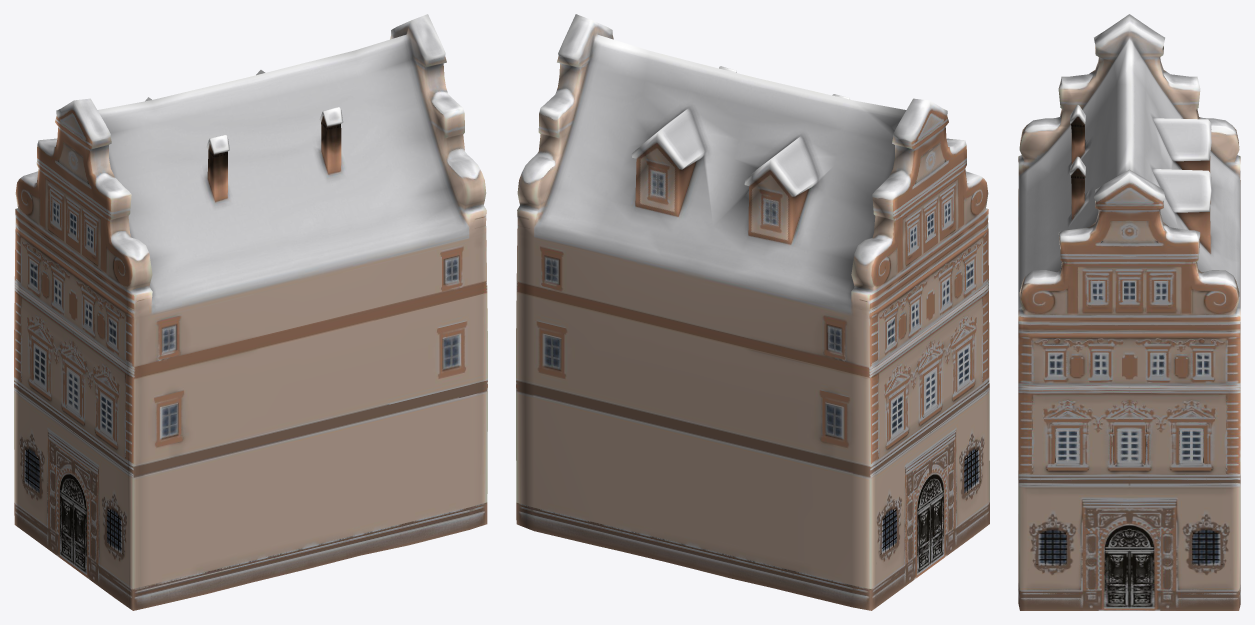
Rendered from House-7.FBX.
3 views of the same model, side by side, from view 1: azimuth 30°, elevation 25°; view 2: azimuth 150°, elevation 25°; view 3: azimuth 270°, elevation 25° (orthographic). The views are drawn at different scales.
Parts seen in each view (by area): view 1: House-7; view 2: House-7; view 3: House-7.
Boxes of the visible parts, x1,y1,x2,y2 form: House-7: [14, 14, 487, 610]; House-7: [516, 14, 989, 610]; House-7: [1018, 14, 1240, 610].
Size of the model in its own units: 50.09 by 62.97 by 29.05.
Materials: 1 (1 with a texture image).
